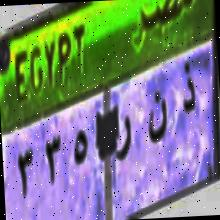3: (40, 132, 66, 194), (15, 143, 36, 197)
5: (68, 117, 94, 173)
noon: (143, 86, 169, 148)
raa: (114, 111, 134, 164)
zaal: (178, 54, 198, 120)
